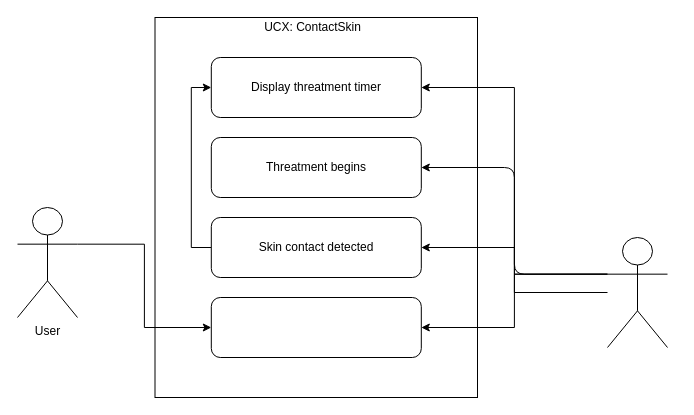
Image size: 694x415. Some labels were removed from this diagram. The shapes that lost their labels are listed below. From the top down, each one's centre as x and y in pixels, then its label:
the point at 637,292: DENAS - PCM
the point at 315,327: Press button "contact skin" to start the threatment
